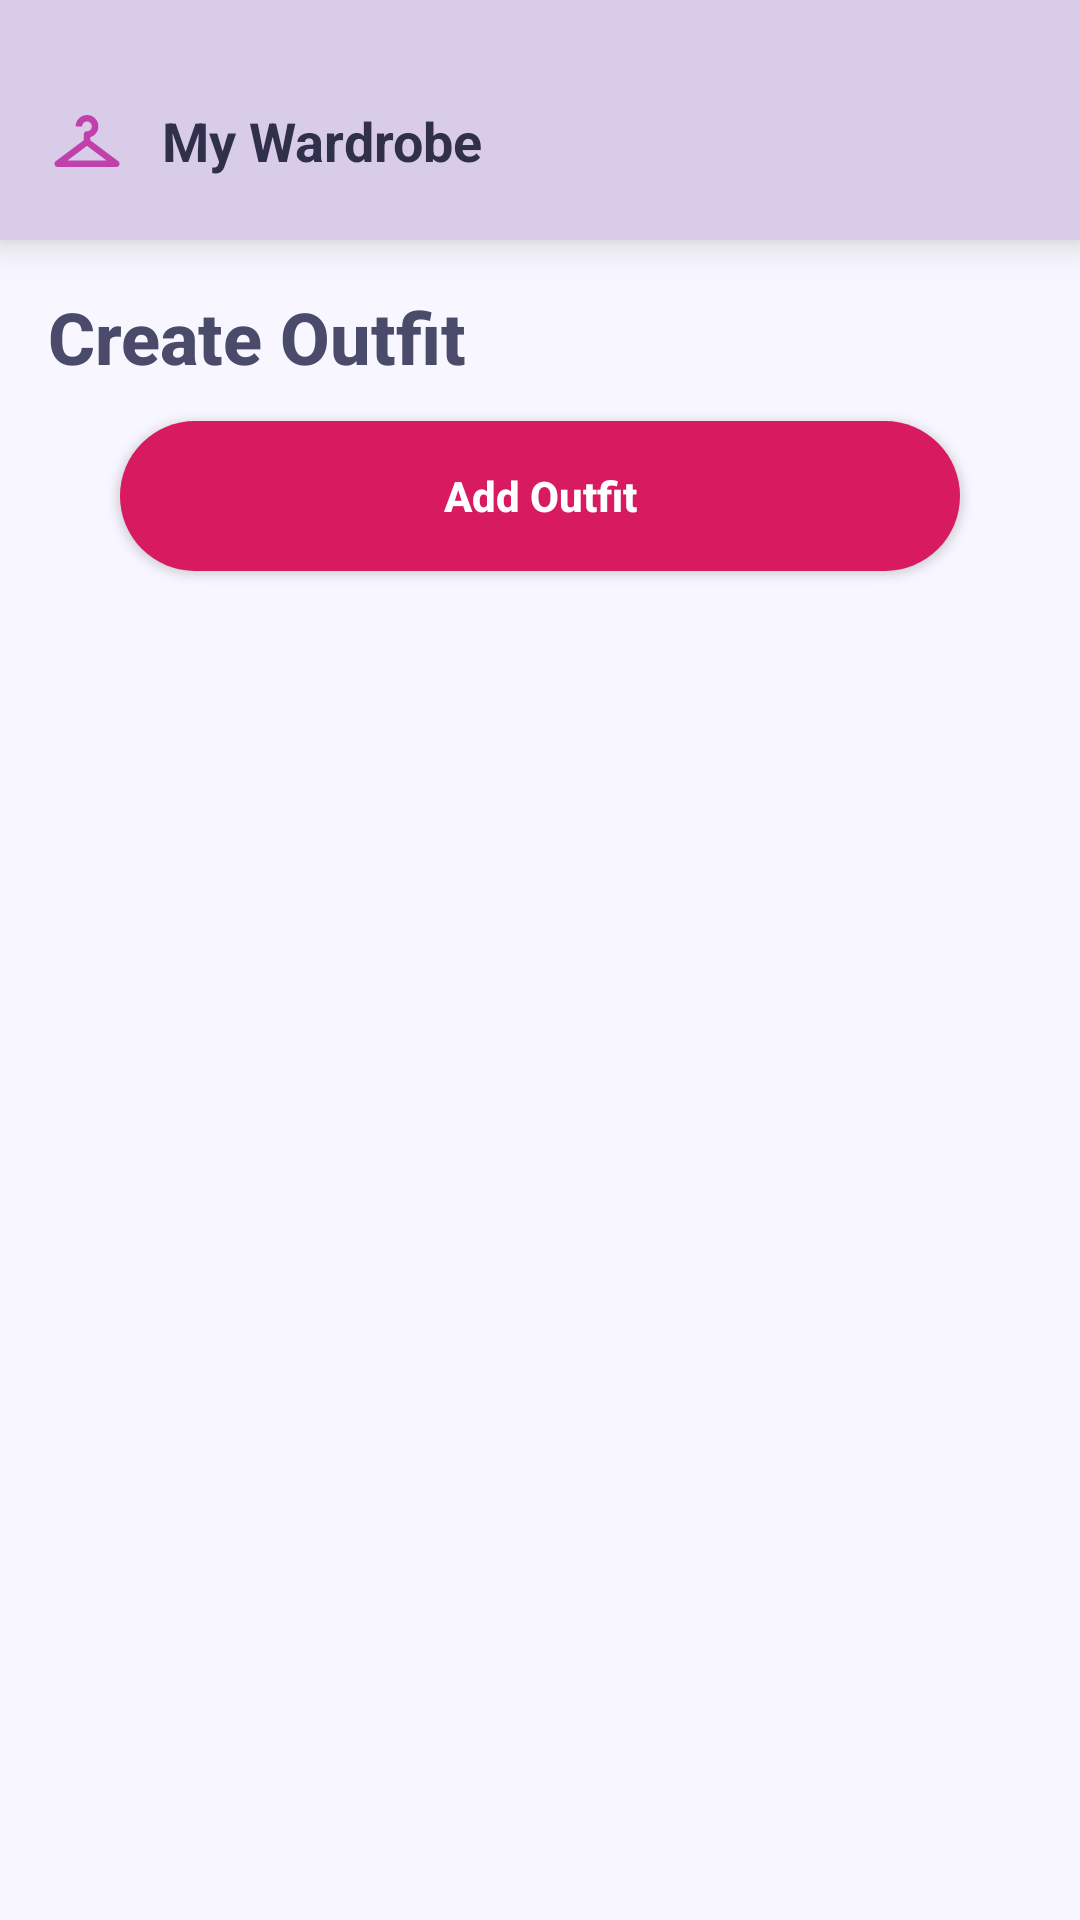

Named icons in this screenshot (1080*1920) and their bounding boxes, {"x1": x1, "y1": y1, "x2": x2, "y2": y2}:
checkroom: {"x1": 54, "y1": 115, "x2": 120, "y2": 167}
